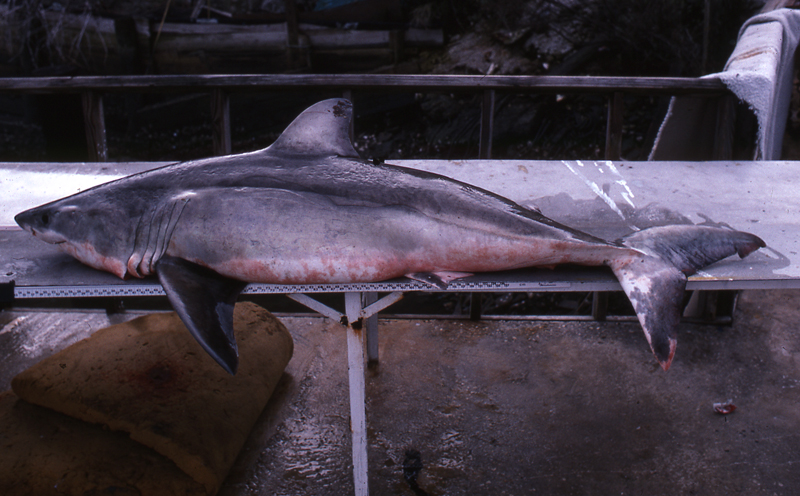Carcharodon_carcharias: (13, 93, 771, 401)
